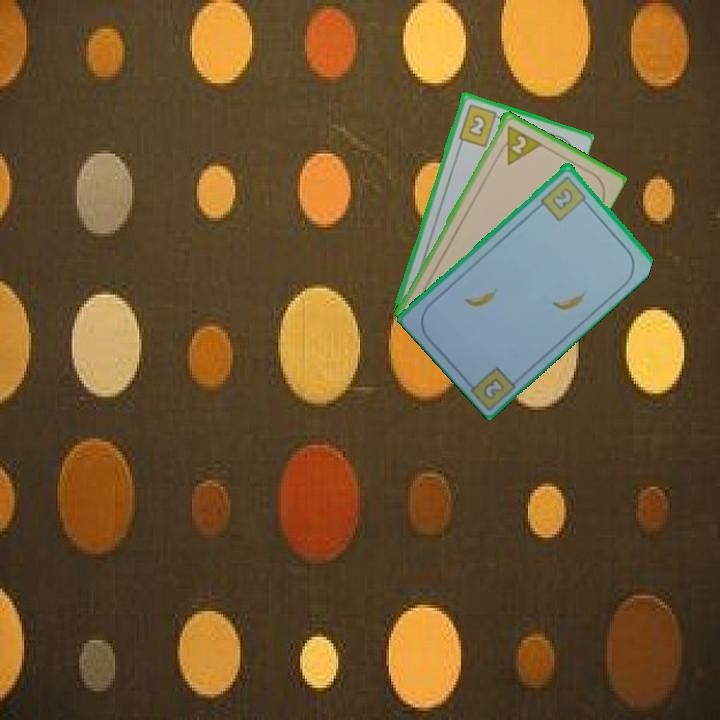2b: (537, 172, 591, 224), (455, 100, 505, 149), (479, 374, 508, 402)
2p: (494, 121, 543, 167)
